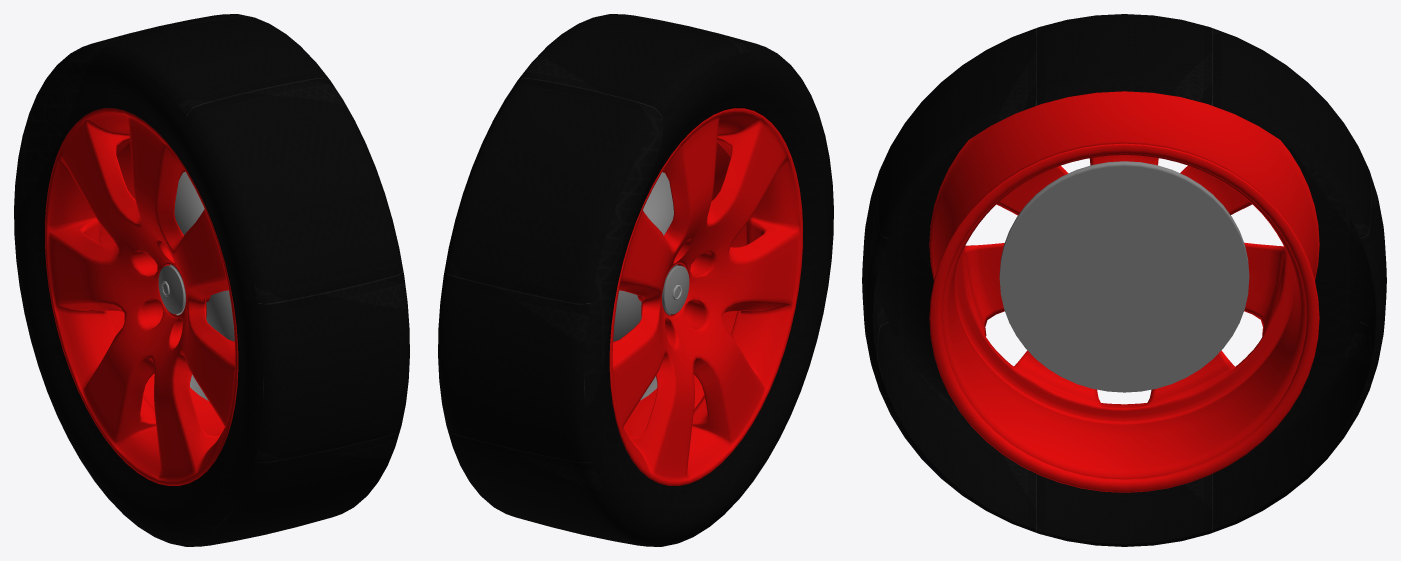
The model's file is llantaTraseraDerechaPractica06.obj.
The picture shows the model from 3 angles, left to right: view 1: azimuth 30°, elevation 25°; view 2: azimuth 150°, elevation 25°; view 3: azimuth 270°, elevation 25°; orthographic projection.
Parts seen in each view (by area): view 1: Audi_A6.002; view 2: Audi_A6.002; view 3: Audi_A6.002.
Boxes of the visible parts, x1,y1,x2,y2 form: Audi_A6.002: (14,14,409,546); Audi_A6.002: (438,14,833,546); Audi_A6.002: (862,14,1386,546).
Bounding box in the file's own units: 3.95 × 11.17 × 11.17.
6 materials, 3 textured.
